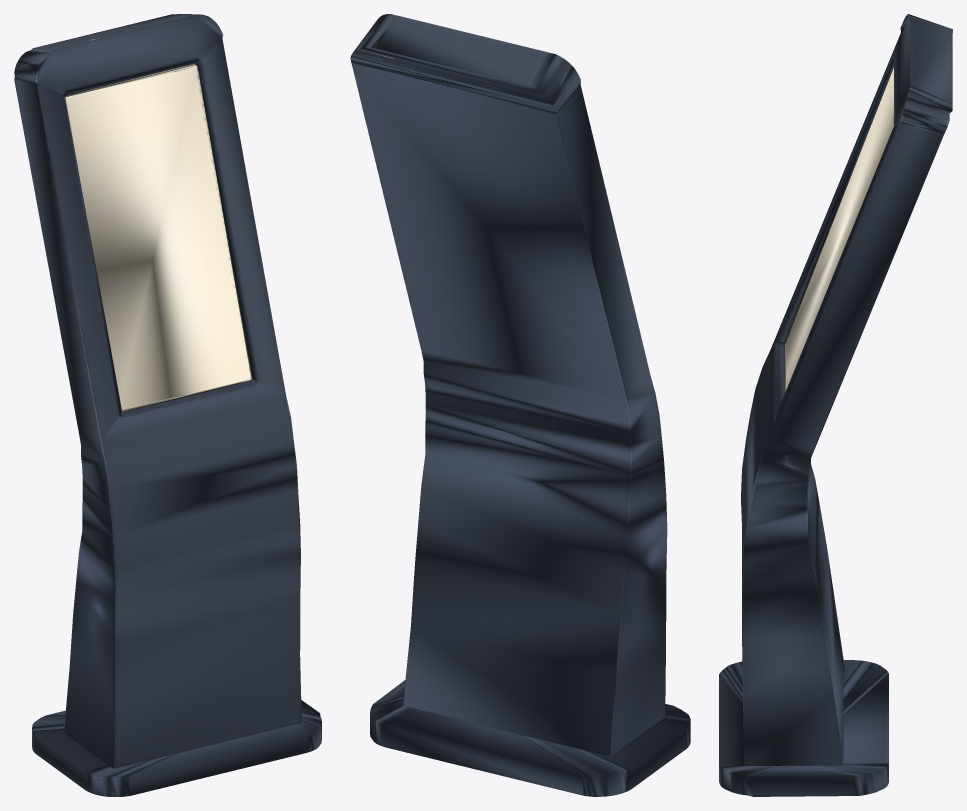
The model's file is public_kiosk.fbx.
3 renders of one model, left to right at view 1: azimuth 30°, elevation 25°; view 2: azimuth 150°, elevation 25°; view 3: azimuth 270°, elevation 25°, orthographic. The views are drawn at different scales.
Parts seen in each view (by area): view 1: Mesh_0; view 2: Mesh_0; view 3: Mesh_0.
Boxes of the visible parts, x1,y1,x2,y2 form: Mesh_0: [14, 14, 321, 796]; Mesh_0: [350, 14, 690, 796]; Mesh_0: [719, 14, 952, 796].
Bounding box in the file's own units: 34.67 × 95.12 × 29.35.
Materials: 1 (1 with a texture image).
